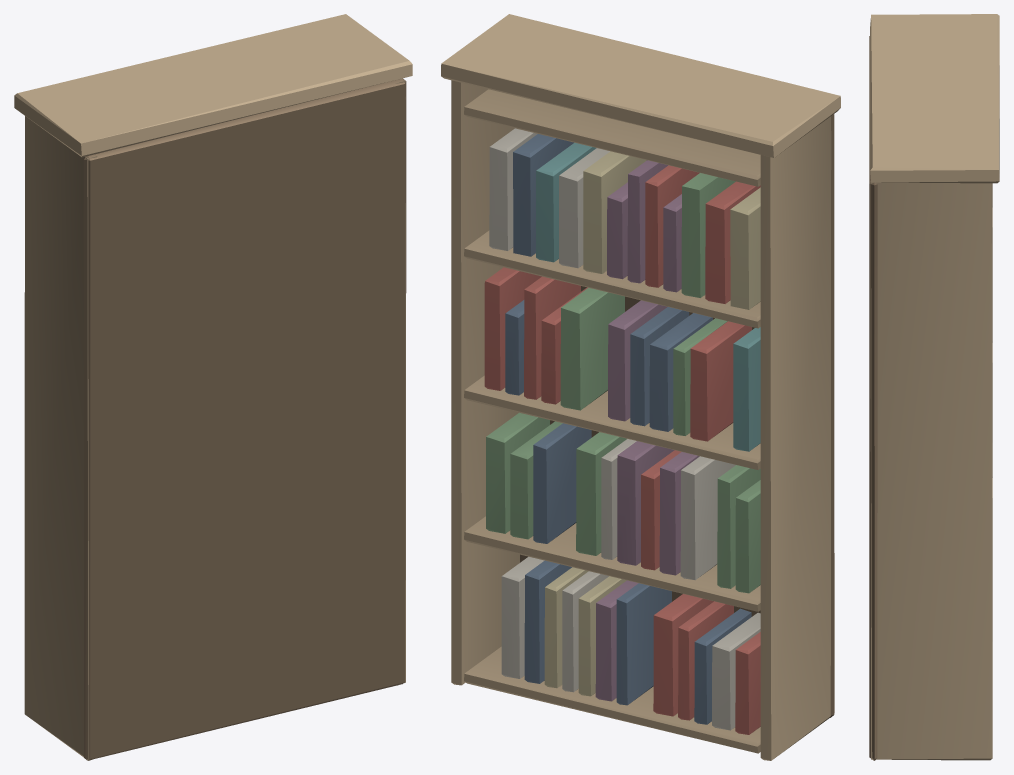
The model's file is furn_bookshelf__oak_low.glb.
3 renders of one model, left to right at view 1: azimuth 30°, elevation 25°; view 2: azimuth 150°, elevation 25°; view 3: azimuth 270°, elevation 25°, orthographic. The views are drawn at different scales.
Bounding box in the file's own units: 1.03 × 1.85 × 0.3673.
